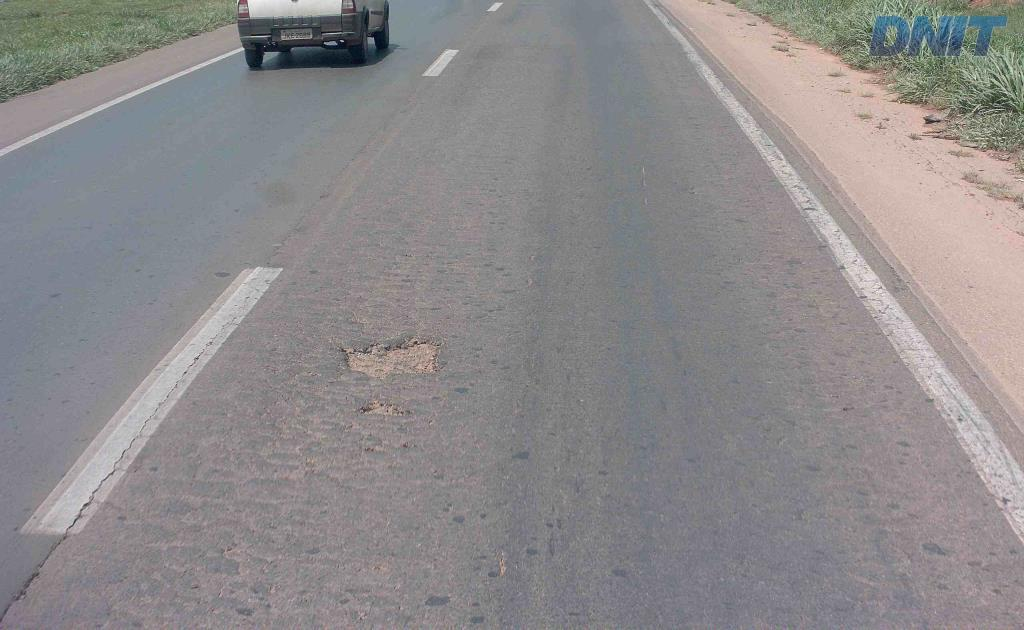pothole: (332, 332, 443, 385), (362, 399, 409, 422)
